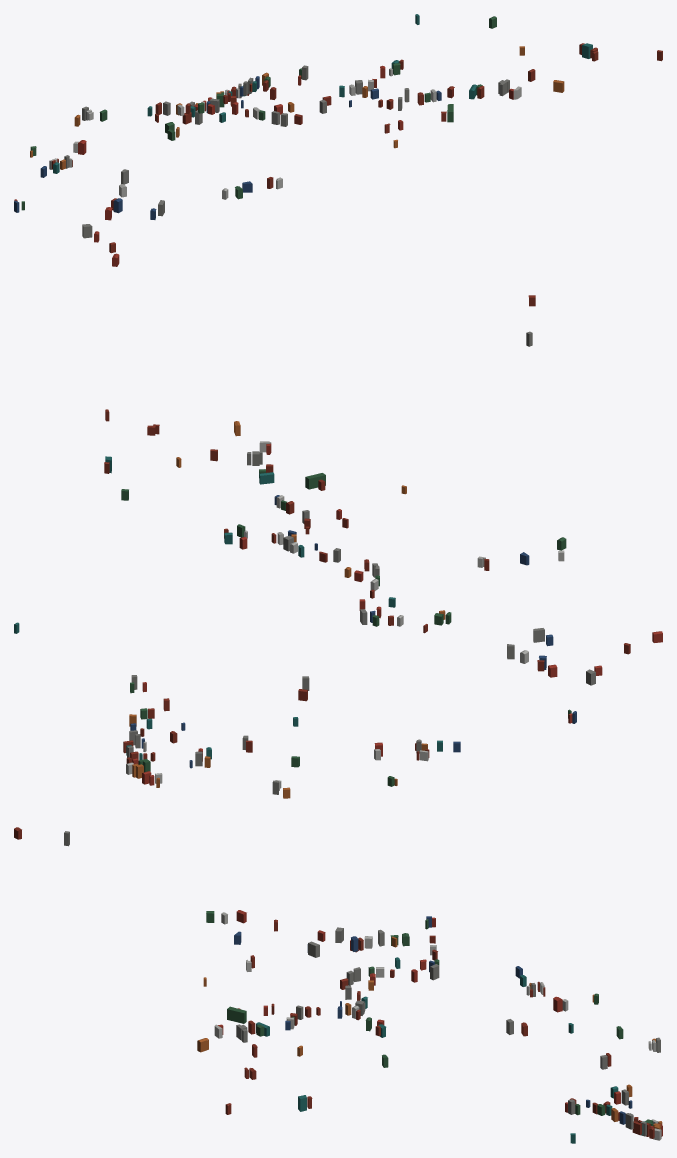
File: near-15-27360-14881.4e4f80ca.glb
The picture shows the model from 3 angles, top to bottom: view 1: azimuth 30°, elevation 25°; view 2: azimuth 150°, elevation 25°; view 3: azimuth 270°, elevation 25°; orthographic projection. The views are drawn at different scales.
Bounding box in the file's own units: 1160 × 529 × 1133.
